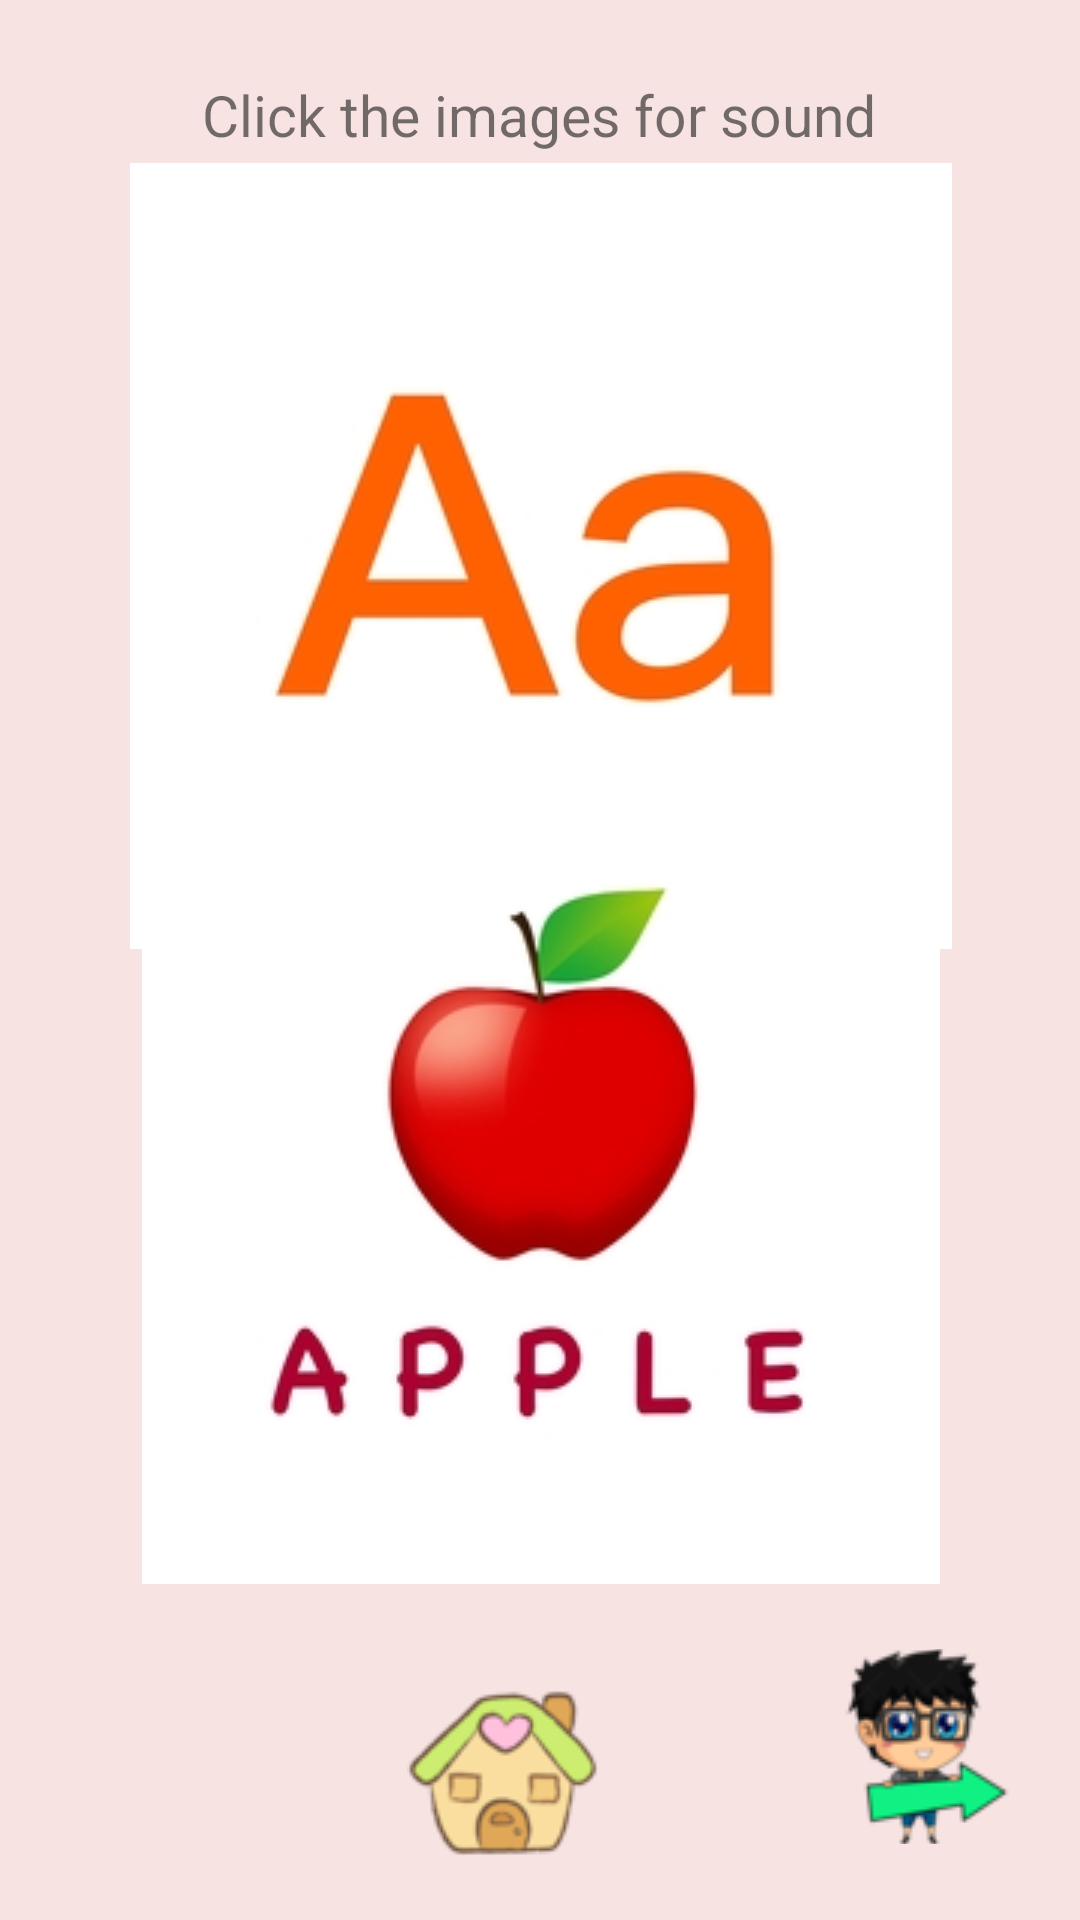

Icons on this 1080px×1920px Android screen, each with the point to tap as [x,y]:
home: [503,1773]
next: [927,1746]
